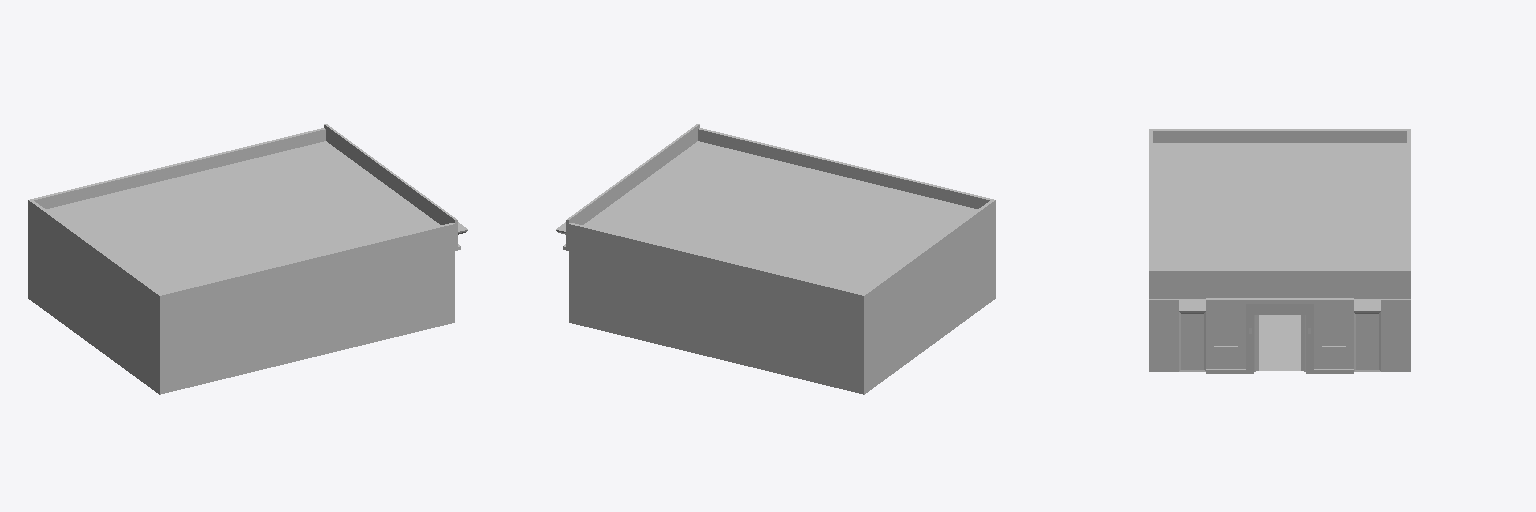
Rendered from Tiny Store.obj.
3 renders of one model, left to right at view 1: azimuth 30°, elevation 25°; view 2: azimuth 150°, elevation 25°; view 3: azimuth 270°, elevation 25°, orthographic.
Visible parts, largest first — view 1: Tiny_Store; view 2: Tiny_Store; view 3: Tiny_Store.
Part boxes in pixels (left/top/right/bottom): Tiny_Store: left=28, top=124, right=467, bottom=394; Tiny_Store: left=556, top=124, right=995, bottom=394; Tiny_Store: left=1149, top=129, right=1410, bottom=373.
Bounding box in the file's own units: 14.25 × 4.3 × 10.